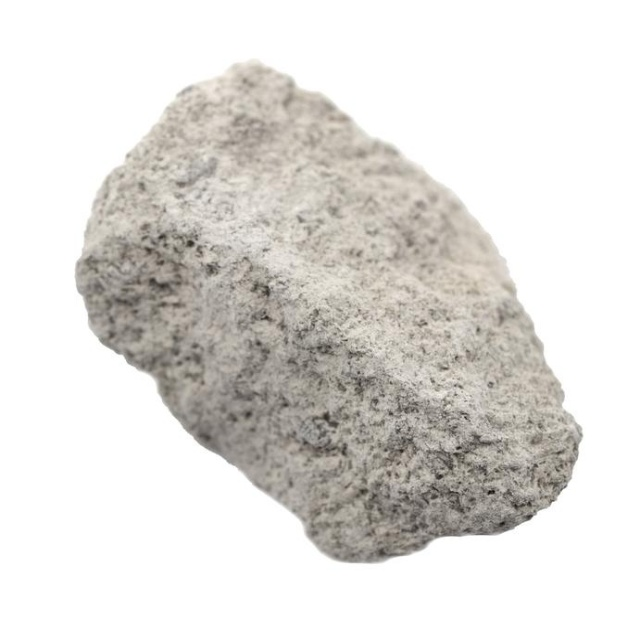obstacle: (77, 62, 580, 560)
